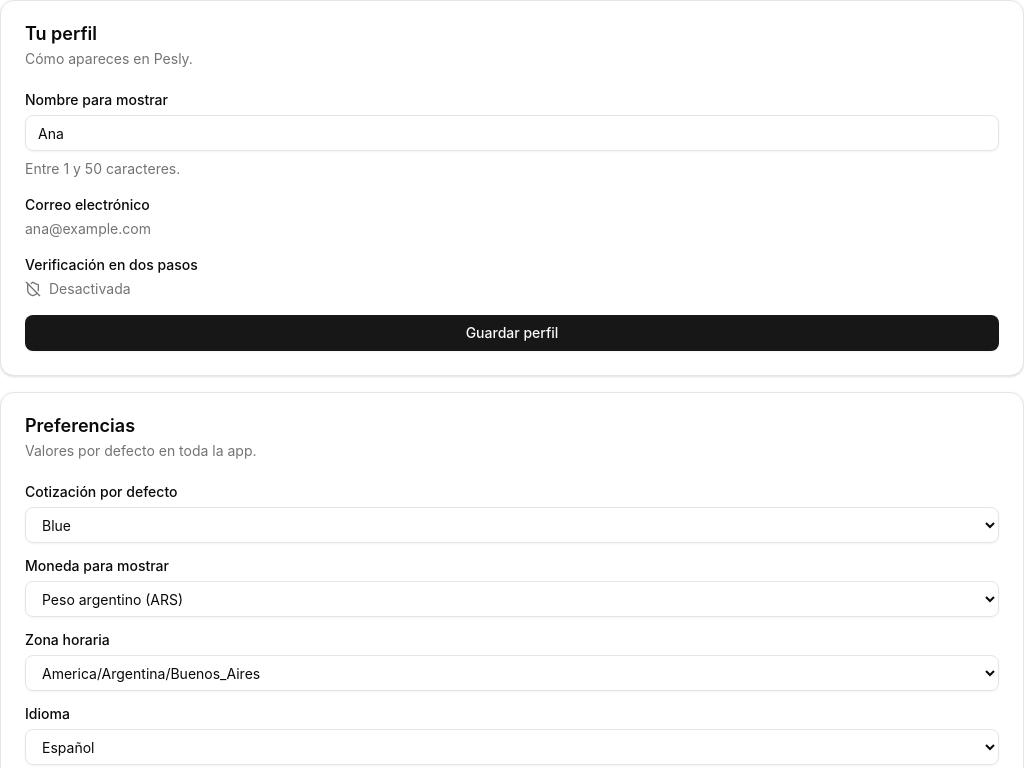
Test: ProfileContainer › keeps what was typed after a network failure so the form can be resubmitted
The width and height of the screenshot is (1024, 768).
Replace the text in the field labelled "Nombre para mostrar" with "Beatriz" at [512, 133], box [25, 115, 999, 151]
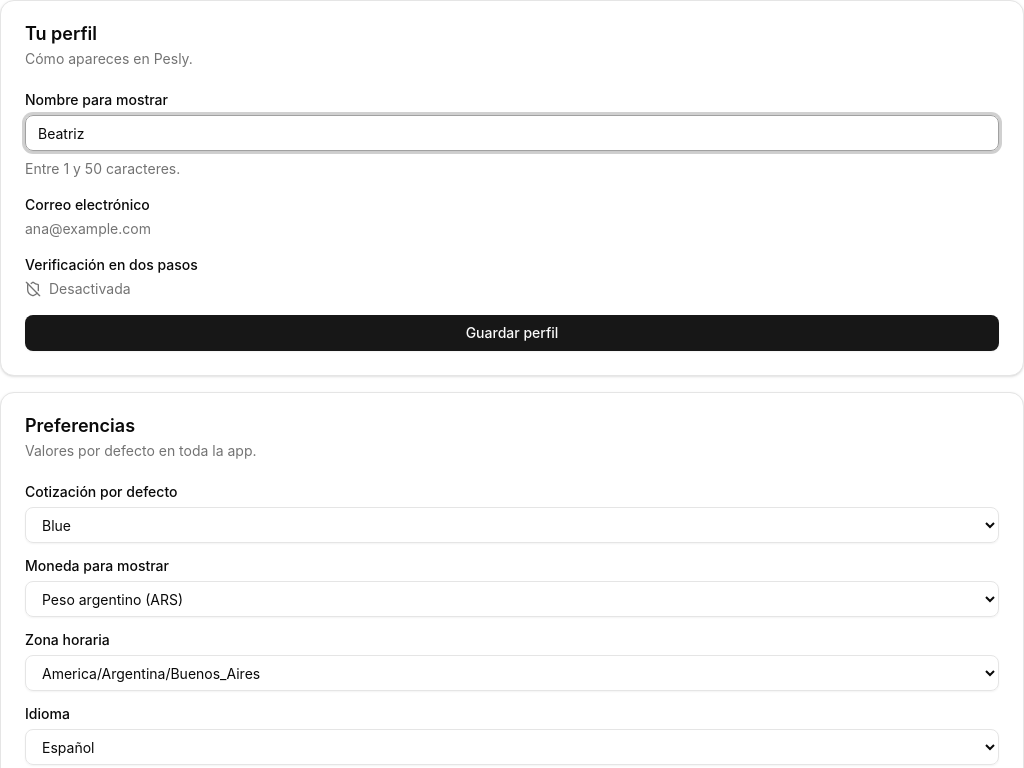
Click the button "Guardar perfil" at [512, 333], box [25, 315, 999, 351]
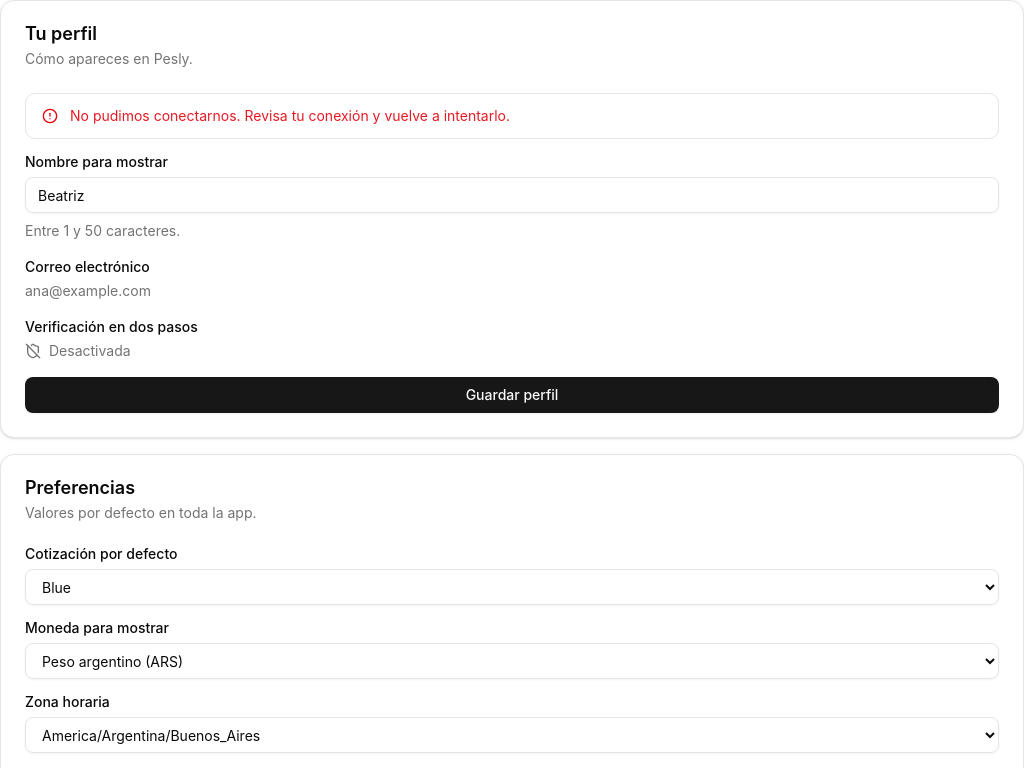
Result: the text "No pudimos conectarnos. Revisa tu conexión y vuelve a intentarlo." is shown at [70, 107, 510, 124]
Click the button "Guardar perfil" at [512, 395], box [25, 377, 999, 413]
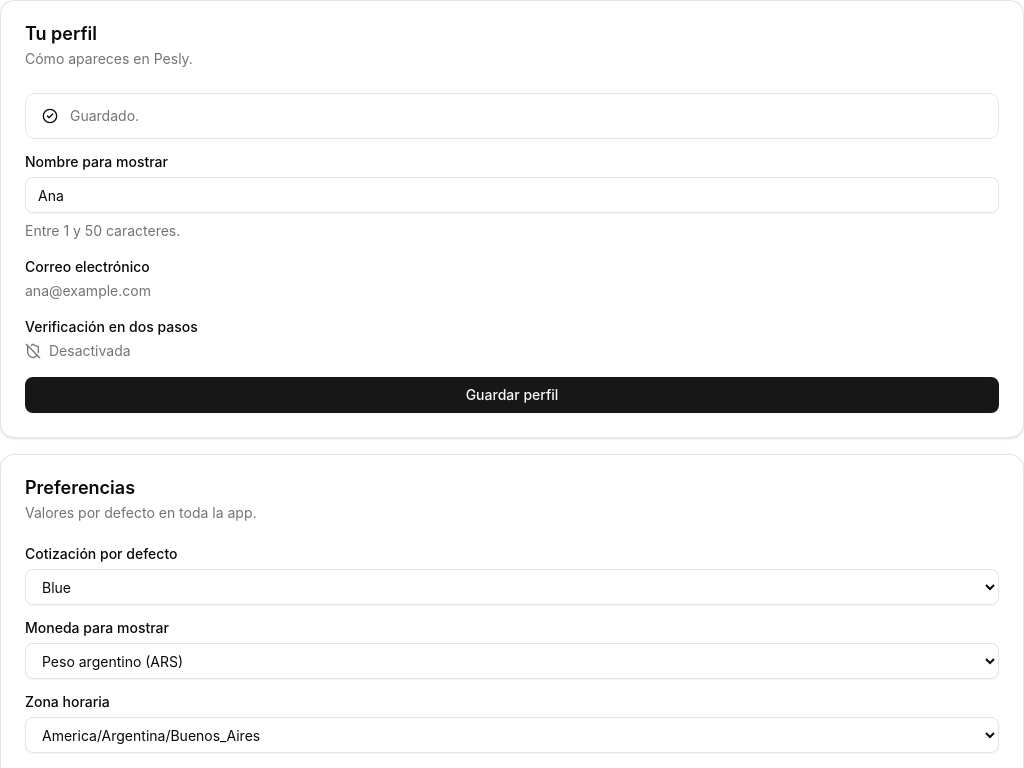
Result: the text "Guardado." is shown at [70, 107, 139, 124]
Result: the text "No pudimos conectarnos. Revisa tu conexión y vuelve a intentarlo." is gone
